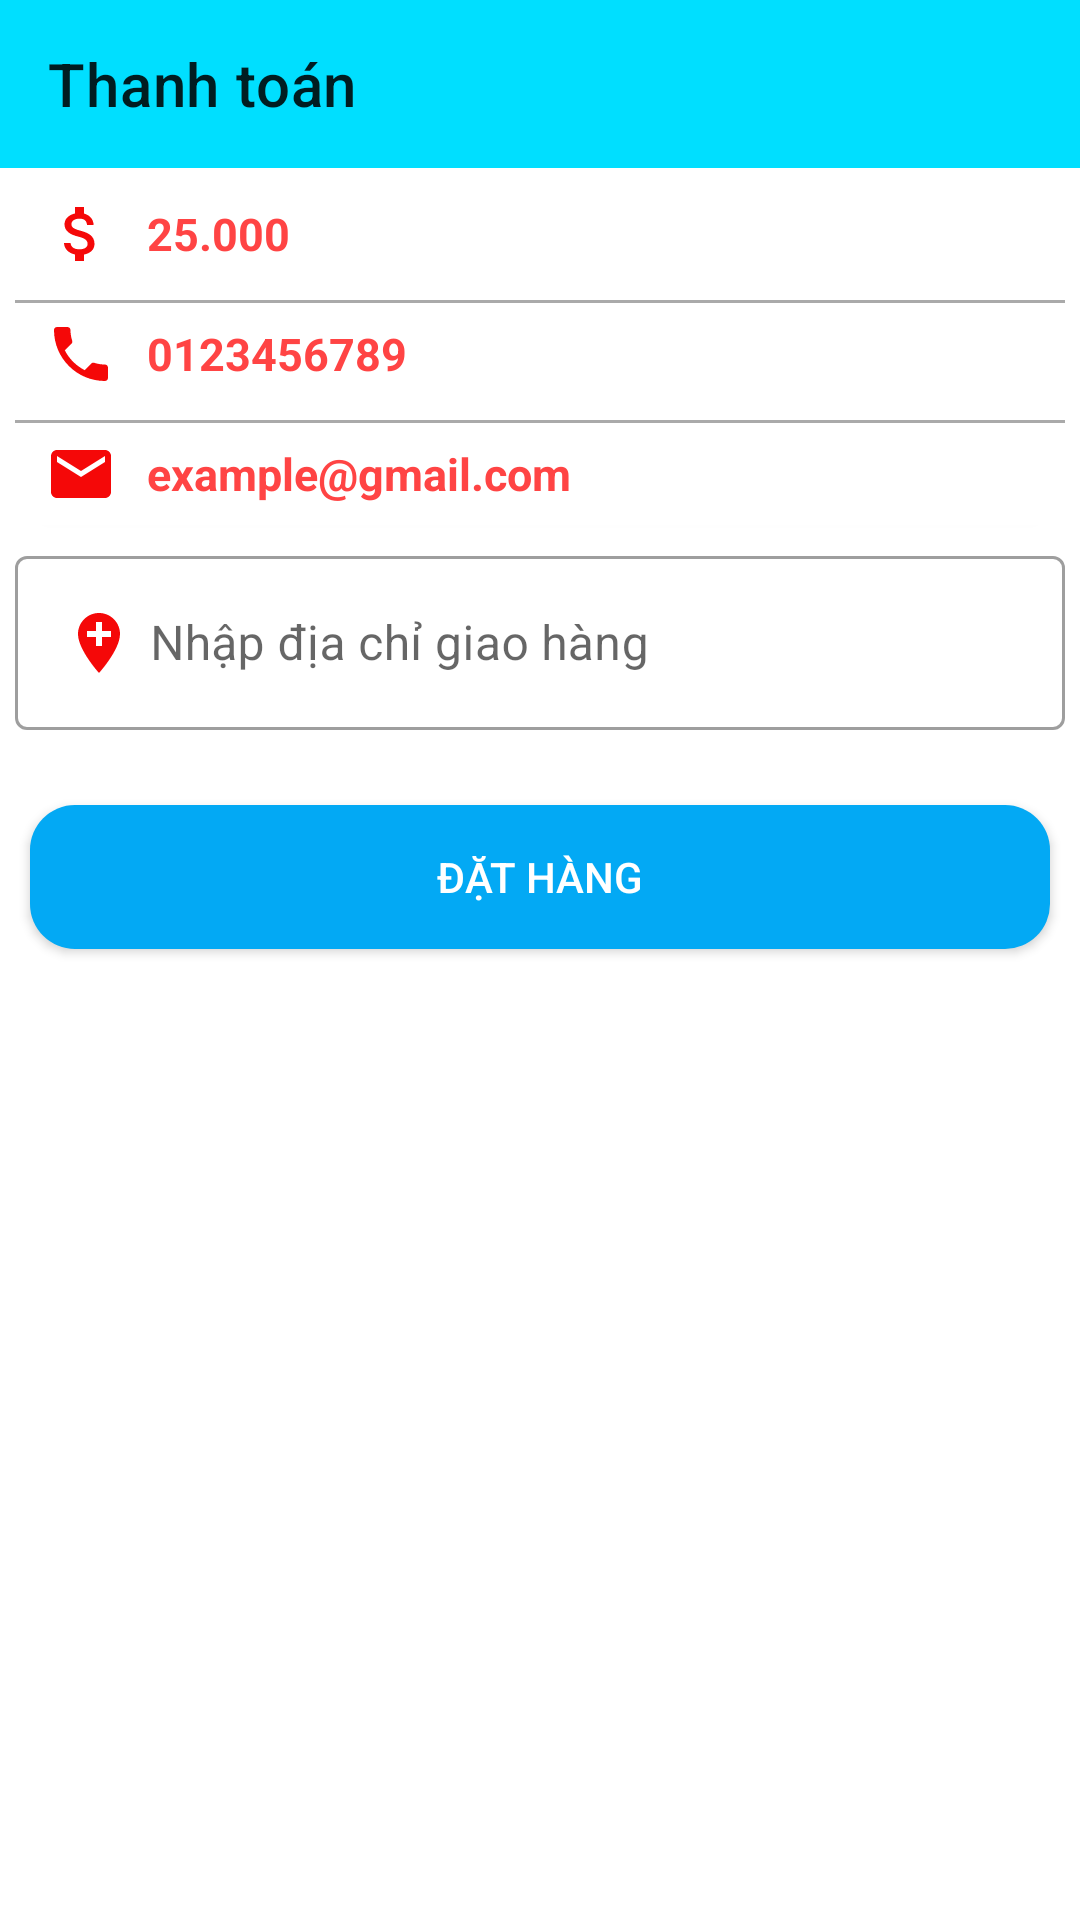

Named icons in this screenshot (1080 × 1920) and their centers, (x=x, y=y):
attach money: (x=79, y=234)
email: (x=81, y=474)
local phone: (x=81, y=354)
